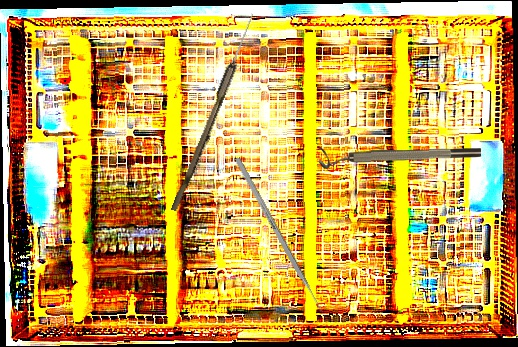Fixation Ring: (318, 144, 482, 170)
Pusher: (234, 157, 330, 323)
Surgical Spoon: (170, 11, 258, 214)
